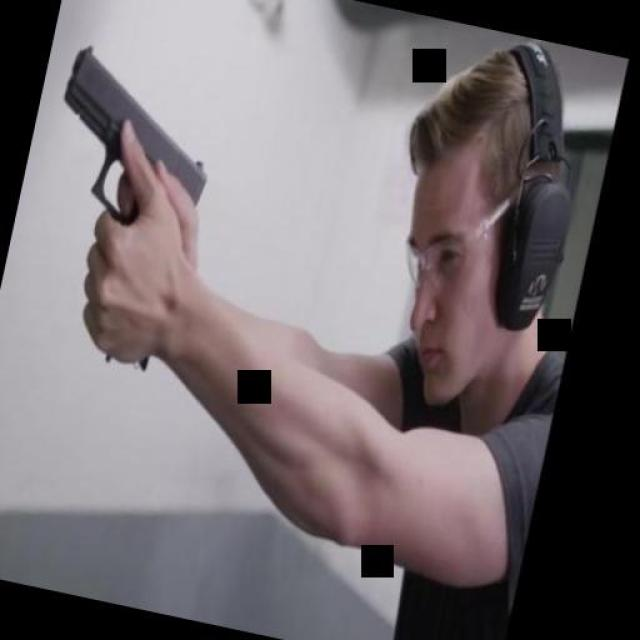gun: (6, 39, 230, 375)
